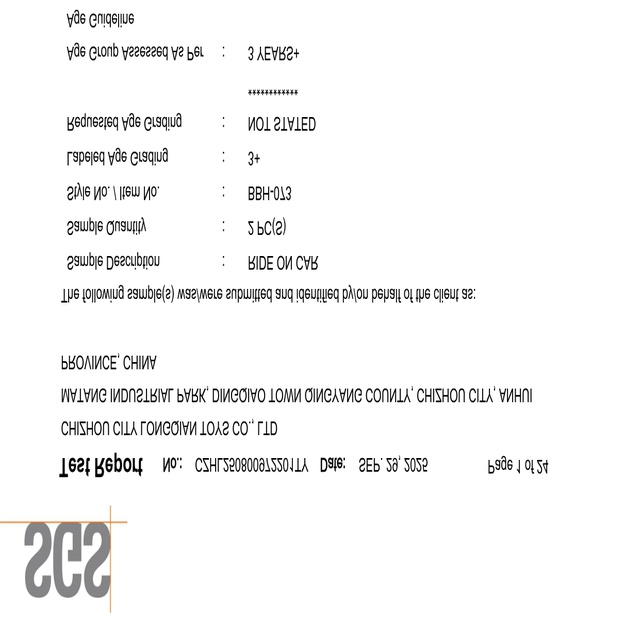sgs: (24, 522, 111, 598)
